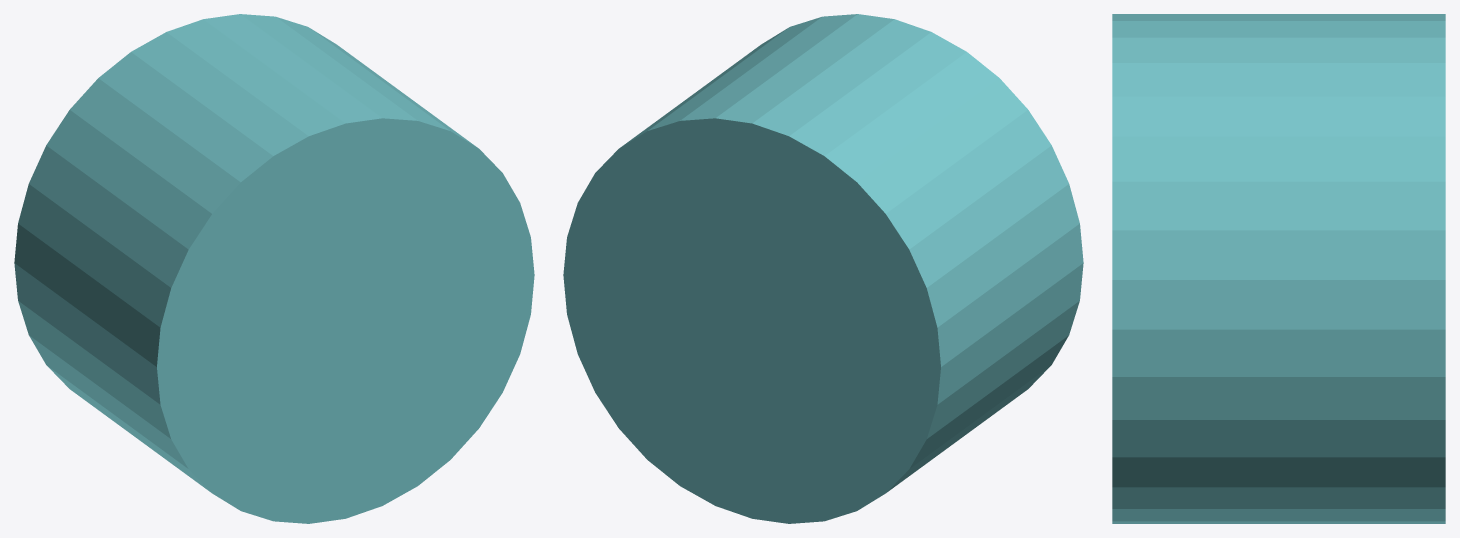
Rendered from cylinderAsHole.mtl.obj.
3 views of the same model, side by side, from view 1: azimuth 30°, elevation 25°; view 2: azimuth 150°, elevation 25°; view 3: azimuth 270°, elevation 25° (orthographic). The views are drawn at different scales.
Visible parts, largest first — view 1: Cylinder_Cylinder.001; view 2: Cylinder_Cylinder.001; view 3: Cylinder_Cylinder.001.
Part boxes in pixels (x1=…): Cylinder_Cylinder.001: x1=14, y1=14, x2=534, y2=523; Cylinder_Cylinder.001: x1=563, y1=14, x2=1083, y2=523; Cylinder_Cylinder.001: x1=1112, y1=14, x2=1445, y2=523.
Size of the model in its own units: 1.01 by 1.01 by 0.66.
1 material, 1 textured.
